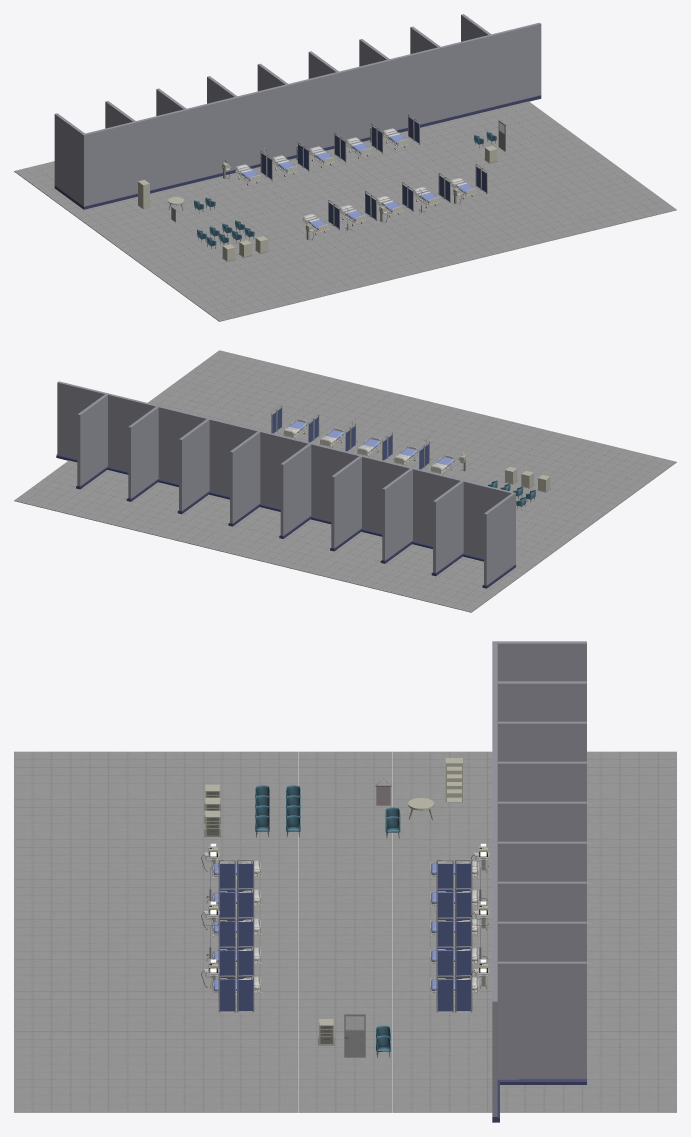
The model's file is er_floor.glb.
3 views of the same model, one above another, from view 1: azimuth 30°, elevation 25°; view 2: azimuth 150°, elevation 25°; view 3: azimuth 270°, elevation 25° (orthographic). The views are drawn at different scales.
Visible parts, largest first — view 1: wall_0, wall_7, wall_8, wall_2, wall_6, wall_1, wall_4, wall_3, wall_5, floor_0_0, floor_0_8, floor_0_3 (+44 smaller); view 2: wall_0, wall_4, wall_6, wall_5, wall_8, wall_3, wall_2, wall_7, wall_1, floor_6_0, floor_6_6, floor_6_3 (+41 smaller); view 3: wall_8, floor_1_8, floor_1_0, floor_1_1, floor_1_3, floor_1_6, floor_1_7, floor_1_5, floor_1_2, floor_1_4, floor_0_0, floor_0_1 (+64 smaller).
Boxes of the visible parts, left/top/right/bottom form: wall_0: left=54, top=113, right=134, bottom=209; wall_7: left=410, top=26, right=490, bottom=122; wall_8: left=461, top=14, right=541, bottom=110; wall_2: left=156, top=88, right=236, bottom=184; wall_6: left=359, top=39, right=439, bottom=132; wall_1: left=105, top=101, right=185, bottom=197; wall_4: left=257, top=63, right=337, bottom=159; wall_3: left=207, top=76, right=286, bottom=168; wall_5: left=308, top=51, right=388, bottom=145; floor_0_0: left=190, top=287, right=270, bottom=321; floor_0_8: left=597, top=188, right=676, bottom=222; floor_0_3: left=343, top=250, right=422, bottom=284; wall_0: left=463, top=480, right=515, bottom=588; wall_4: left=259, top=431, right=312, bottom=538; wall_6: left=158, top=406, right=210, bottom=514; wall_5: left=209, top=418, right=261, bottom=526; wall_8: left=56, top=381, right=108, bottom=489; wall_3: left=310, top=443, right=362, bottom=551; wall_2: left=361, top=455, right=413, bottom=563; wall_7: left=107, top=393, right=159, bottom=501; wall_1: left=412, top=468, right=464, bottom=576; floor_6_0: left=421, top=578, right=500, bottom=612; floor_6_6: left=115, top=504, right=195, bottom=538; floor_6_3: left=268, top=541, right=347, bottom=575; wall_8: left=492, top=961, right=586, bottom=1122; floor_1_8: left=108, top=1072, right=203, bottom=1112; floor_1_0: left=108, top=751, right=203, bottom=791; floor_1_1: left=108, top=791, right=203, bottom=831; floor_1_3: left=108, top=871, right=203, bottom=911; floor_1_6: left=108, top=991, right=203, bottom=1031; floor_1_7: left=108, top=1031, right=203, bottom=1071; floor_1_5: left=108, top=951, right=203, bottom=991; floor_1_2: left=108, top=831, right=203, bottom=871; floor_1_4: left=108, top=911, right=203, bottom=951; floor_0_0: left=14, top=751, right=108, bottom=791; floor_0_1: left=14, top=791, right=108, bottom=831.
Bounding box in the file's own units: 36.98 × 5.63 × 27.99.
Materials: 16 (11 with a texture image).
